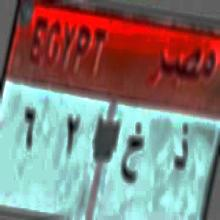2: (58, 109, 84, 158)
6: (18, 101, 44, 164)
khaa: (121, 119, 149, 194)
zaal: (169, 118, 195, 186)
